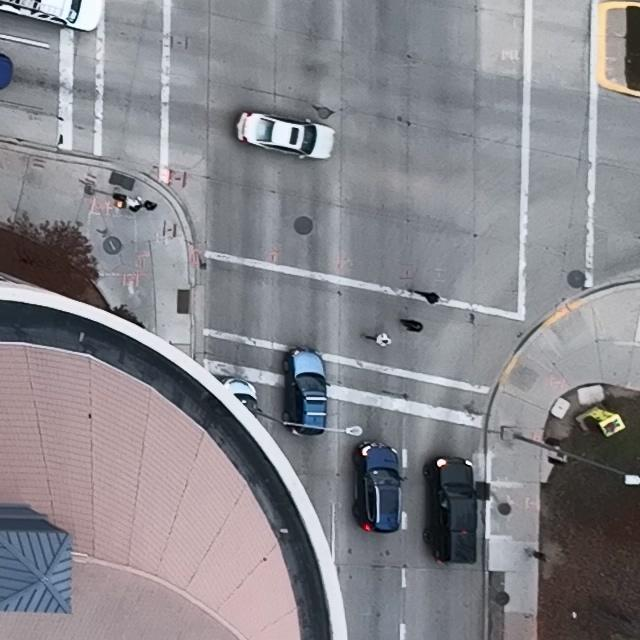car: (424, 458, 479, 564), (235, 110, 336, 161), (352, 440, 405, 531), (284, 347, 331, 436), (0, 0, 105, 31), (223, 378, 263, 419)
